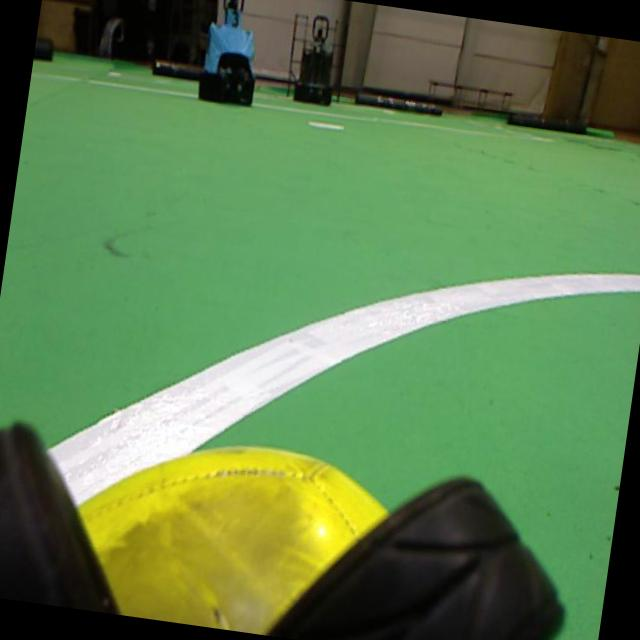ball: (79, 447, 387, 633)
robot: (293, 14, 333, 105)
